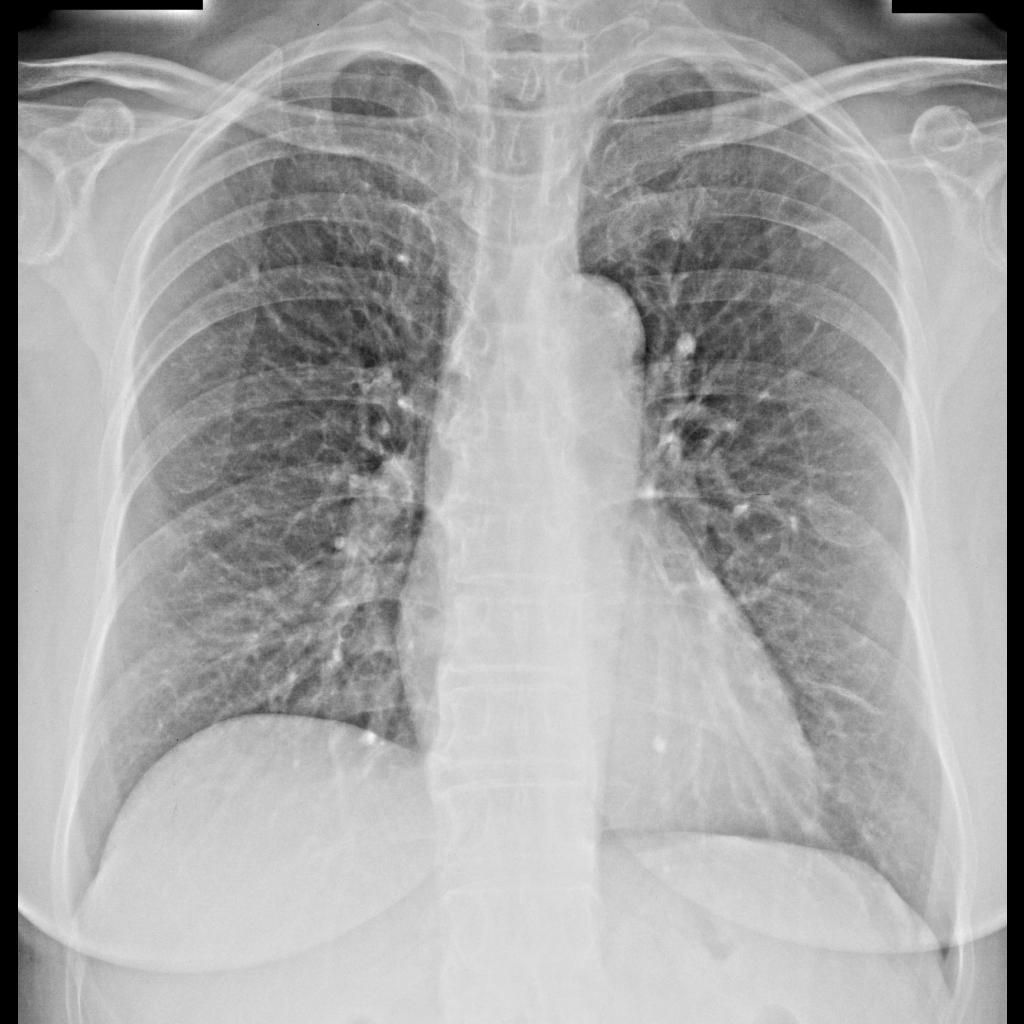Nodule: (791, 207, 846, 261)
